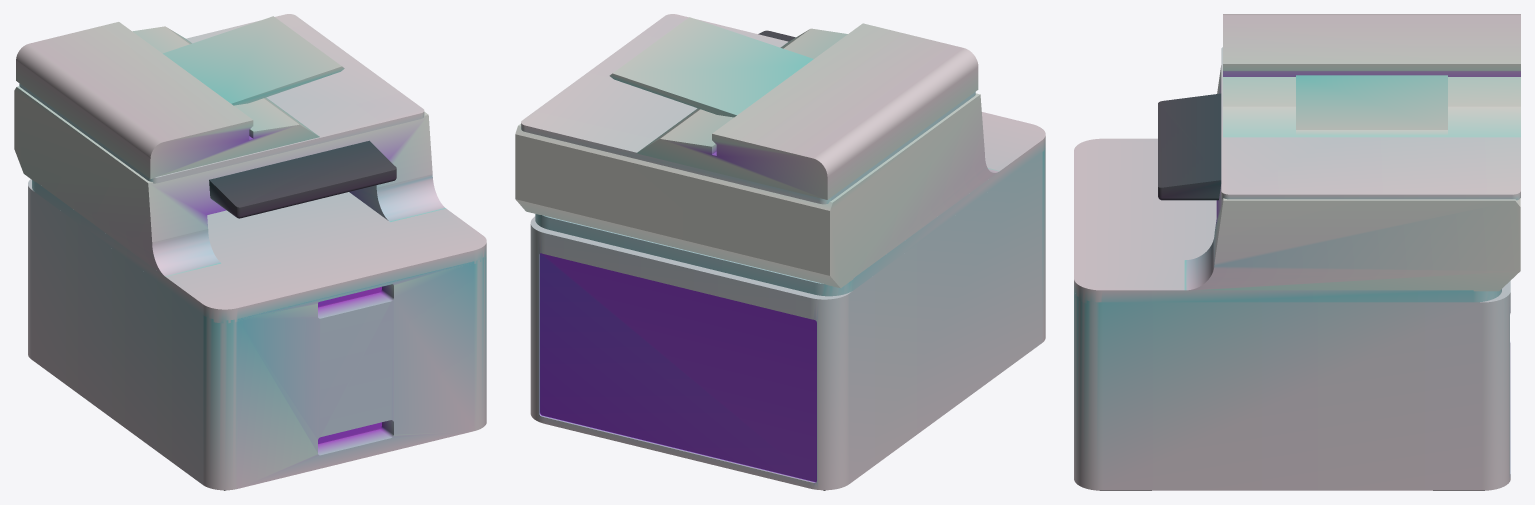
Rendered from simready-computer_printer_office_a01.glb.
3 views of the same model, side by side, from view 1: azimuth 30°, elevation 25°; view 2: azimuth 150°, elevation 25°; view 3: azimuth 270°, elevation 25° (orthographic). The views are drawn at different scales.
Visible parts, largest first — view 1: body, shelf, feed_cover, scanner, lid, feed_tray, console; view 2: body, scanner, feed_cover, lid, feed_tray, shelf; view 3: body, scanner, feed_cover, shelf, lid, feed_tray, console.
Part boxes in pixels (x1,y1,x2,y2): body: (28, 179, 486, 490); shelf: (32, 180, 486, 323); feed_cover: (16, 22, 319, 178); scanner: (14, 86, 445, 276); lid: (19, 14, 424, 183); feed_tray: (163, 16, 344, 105); console: (209, 140, 396, 218); body: (530, 148, 1045, 490); scanner: (515, 93, 999, 288); feed_cover: (636, 23, 978, 199); lid: (521, 14, 975, 204); feed_tray: (609, 17, 813, 117); shelf: (535, 112, 1045, 296); body: (1074, 281, 1510, 490); scanner: (1184, 65, 1520, 291); feed_cover: (1223, 14, 1520, 137); shelf: (1074, 138, 1501, 304); lid: (1221, 47, 1520, 200); feed_tray: (1296, 75, 1447, 134); console: (1158, 93, 1221, 200).
Size of the model in its own units: 0.406 by 0.428 by 0.5055.
